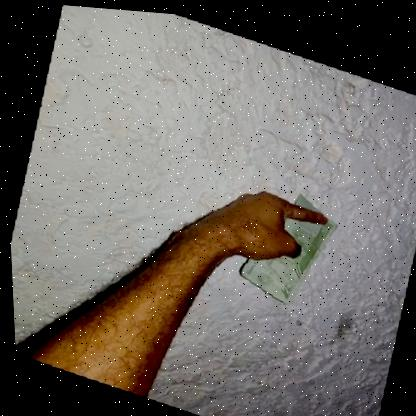vef_back: (230, 174, 343, 311)
